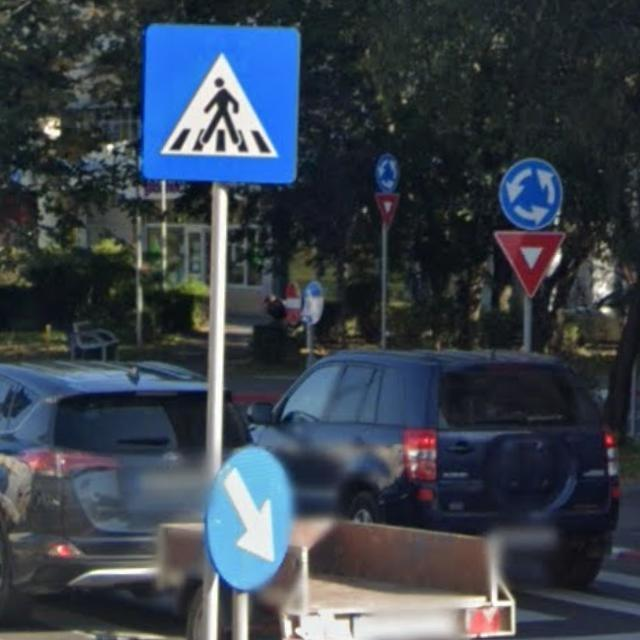info_crosswalk: (140, 22, 299, 185)
prio_give_way: (492, 226, 571, 299), (375, 191, 403, 227)
